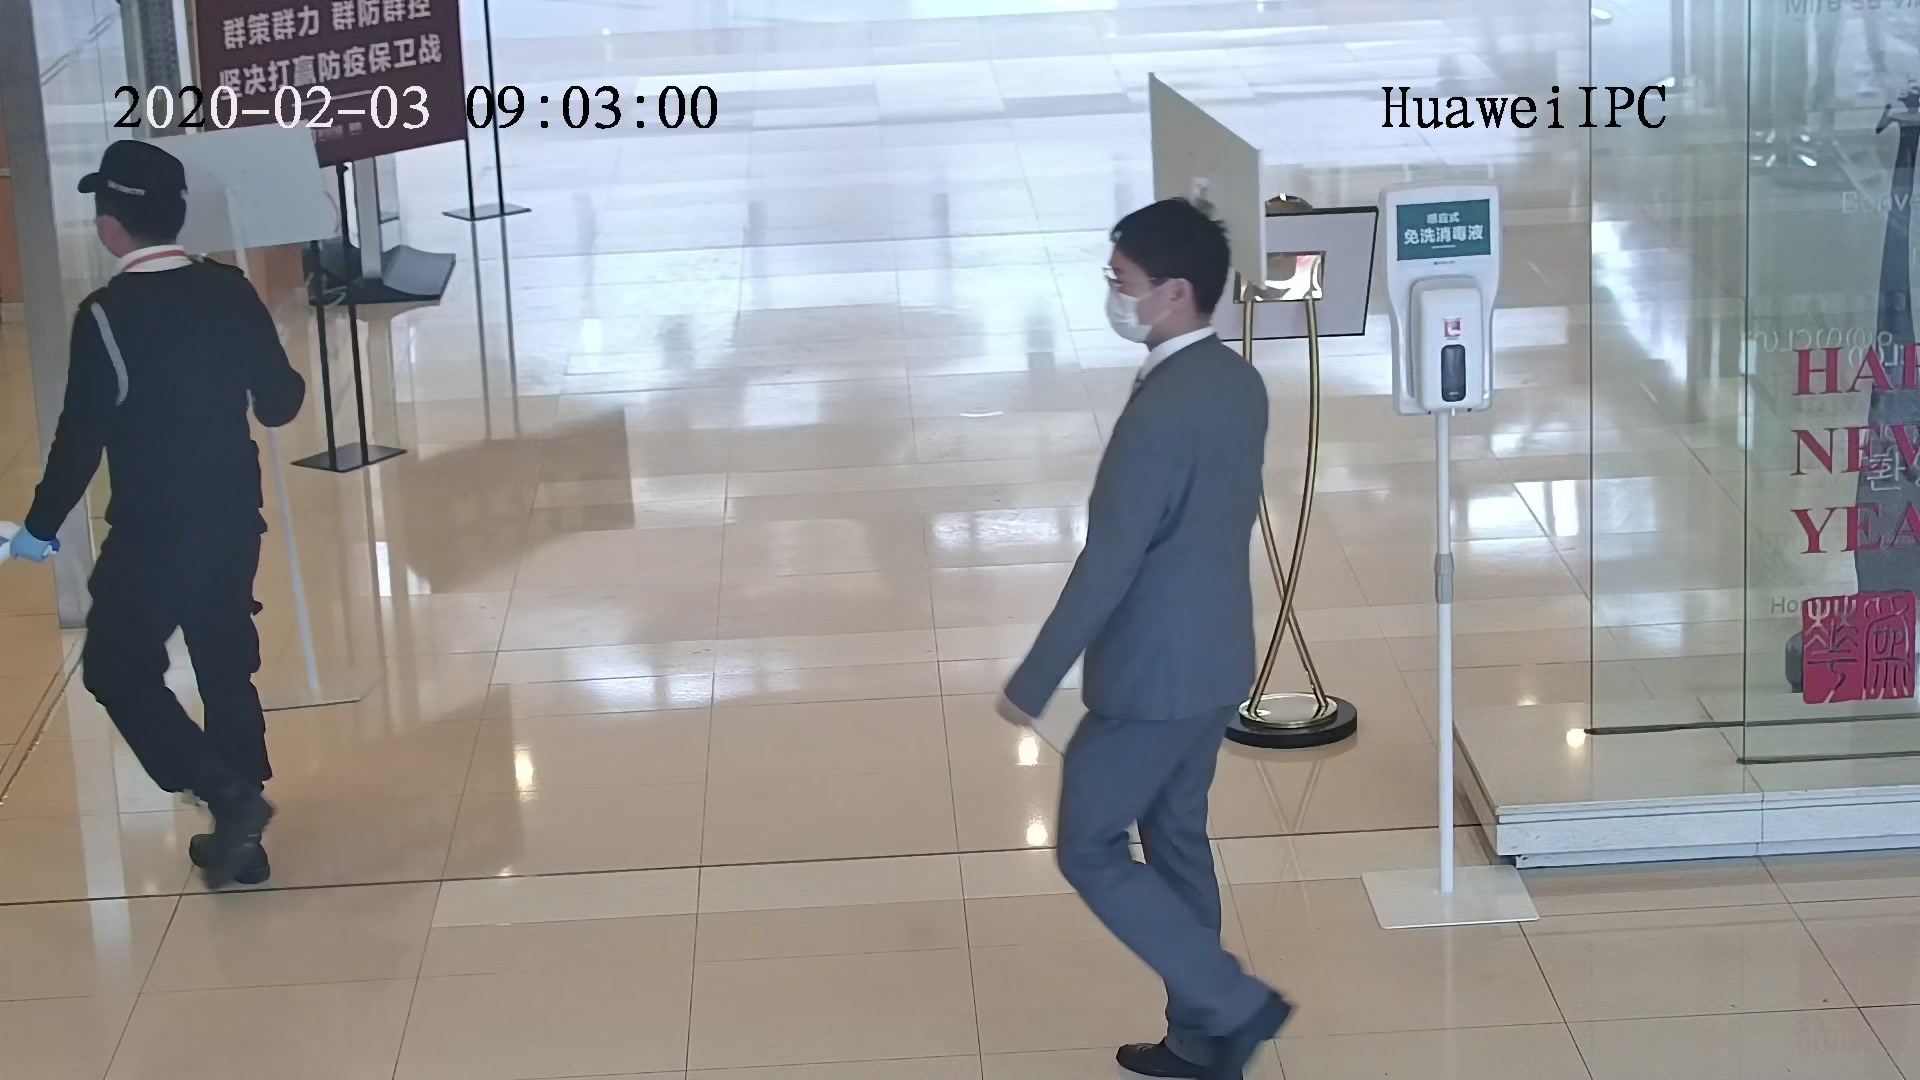face: (1105, 251, 1173, 346)
mask: (1105, 283, 1158, 342)
person: (63, 141, 265, 370), (1093, 199, 1274, 440)
